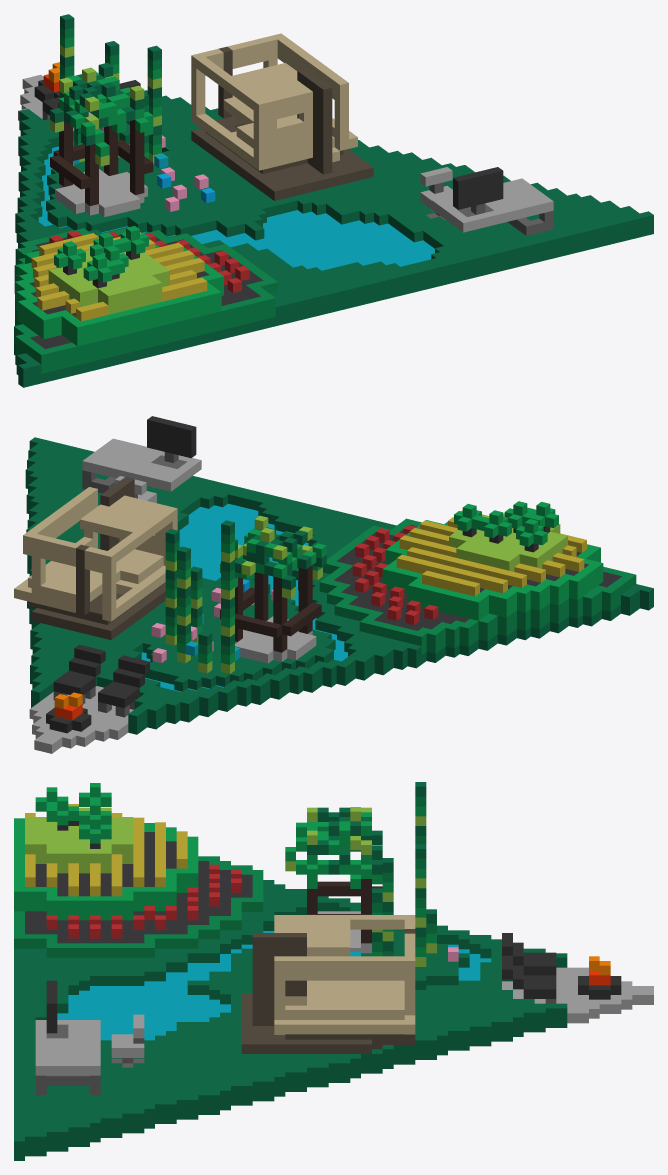
Rendered from Farm(Simone).vox.obj.
The picture shows the model from 3 angles, top to bottom: view 1: azimuth 30°, elevation 25°; view 2: azimuth 150°, elevation 25°; view 3: azimuth 270°, elevation 25°; orthographic projection. The views are drawn at different scales.
Bounding box in the file's own units: 7 × 1.8 × 5.9.
Materials: 1 (1 with a texture image).
